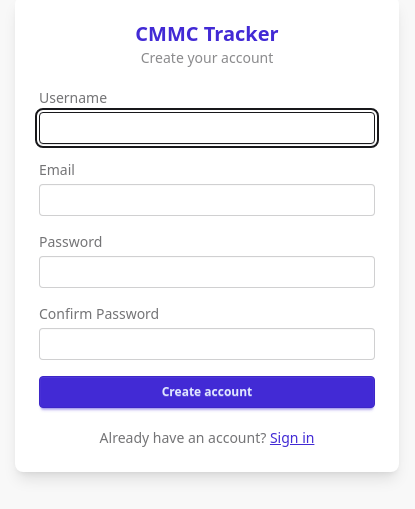
Scenario: RegisterPage › validates password minimum length
Type "testuser" into the field labelled "Username" at coordinates (207, 128), box [39,112,375,144]
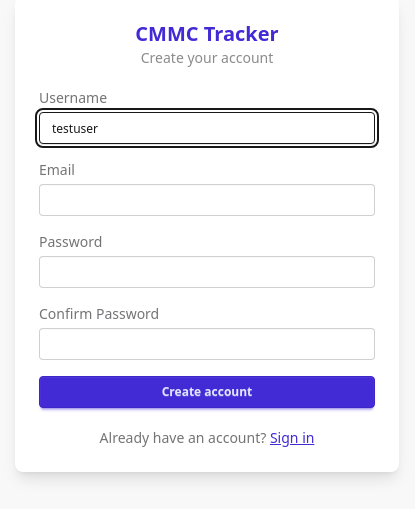
Type "test@example.com" into the field labelled "Email" at coordinates (207, 200), box [39,184,375,216]
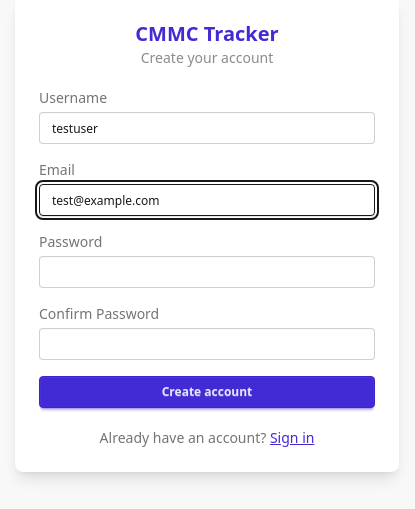
Type "short" into the password field labelled "Password" at coordinates (207, 272), box [39,256,375,288]
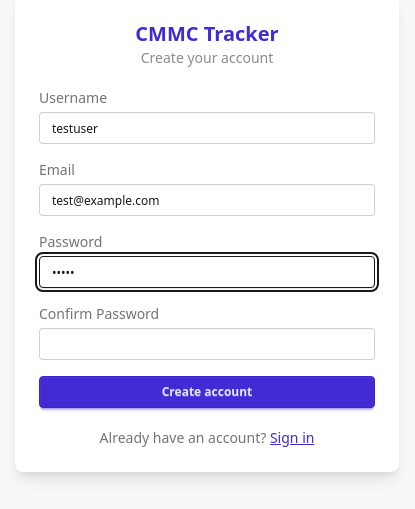
Type "short" into the password field labelled "Confirm Password" at coordinates (207, 344), box [39,328,375,360]
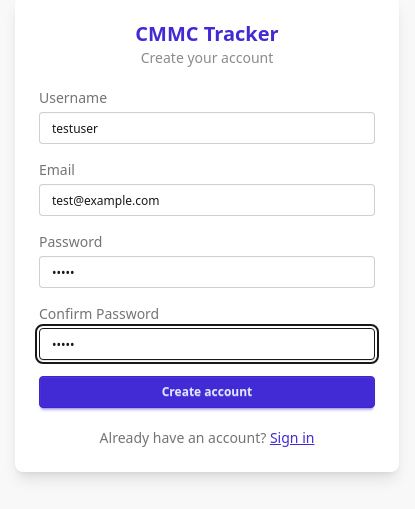
Click the button "Create account" at coordinates (207, 392), box [39,376,375,408]
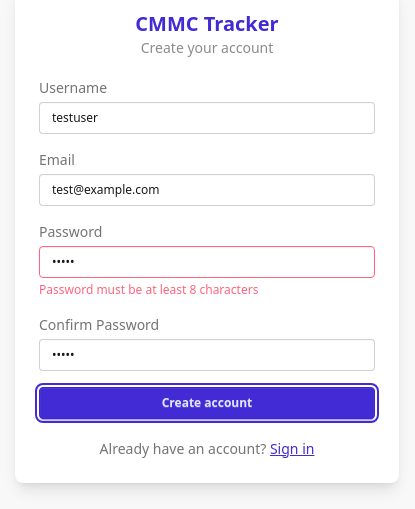
Now the text "Password must be at least 8 characters" is shown, box [39,280,258,298]
